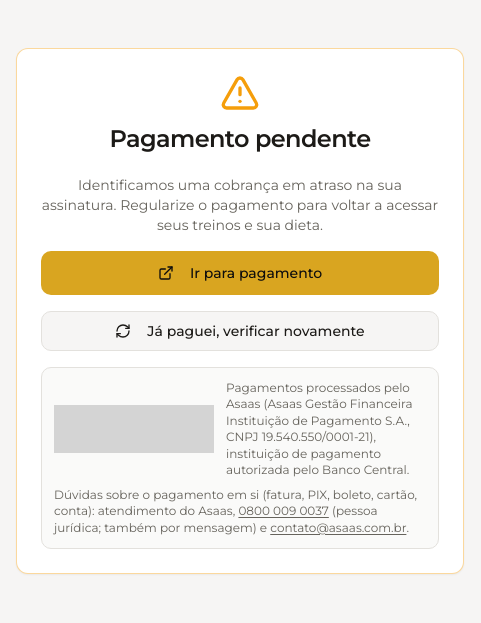
Test: AlunoBillingGate › diz a verdade quando o Asaas também não tem a confirmação
Click the button "Já paguei, verificar novamente".
click(240, 331)  # box [41,311,439,351]
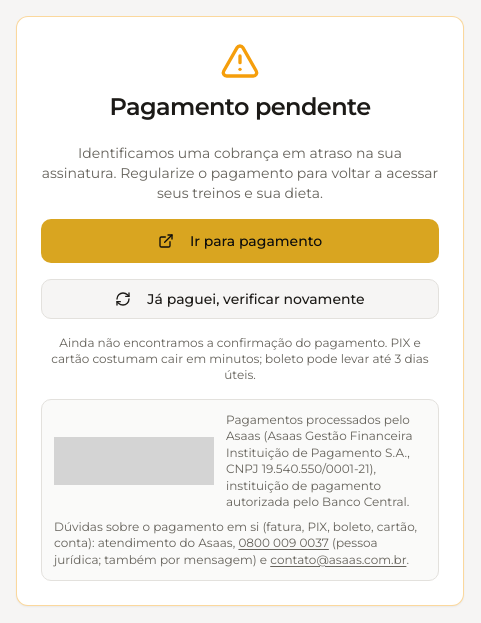
expect the text "Ainda não encontramos a confirmação" is shown: met, box [51,335,429,382]
